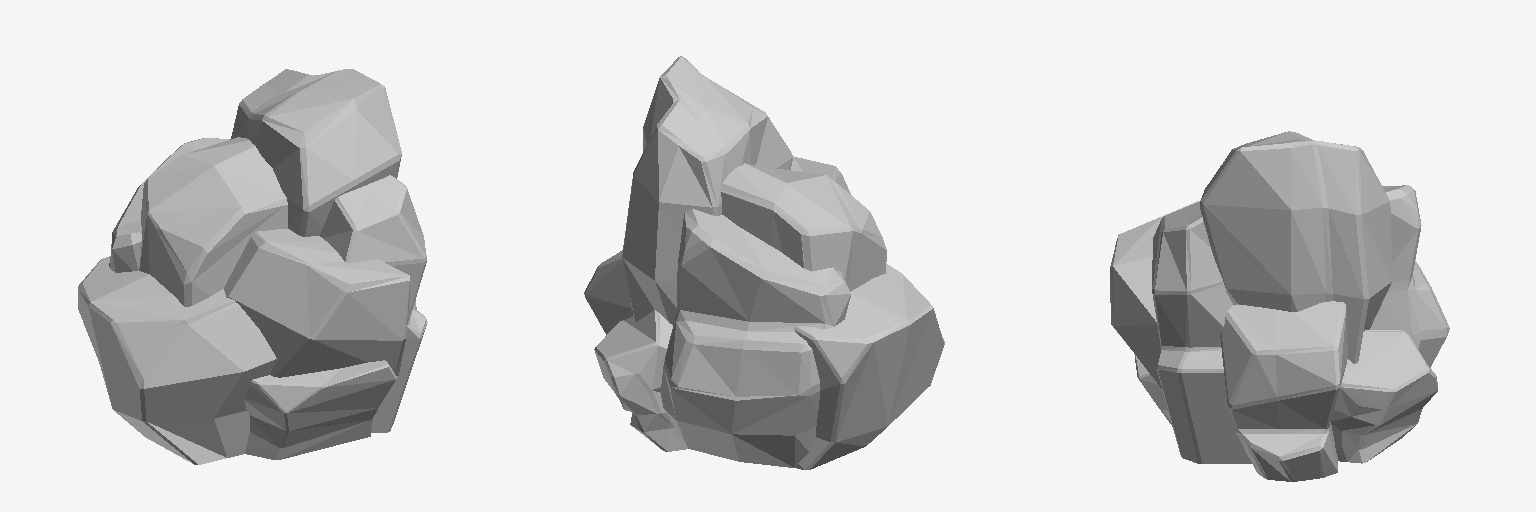
The model's file is Main_Cube2.mtl.obj.
The picture shows the model from 3 angles: view 1: azimuth 30°, elevation 25°; view 2: azimuth 150°, elevation 25°; view 3: azimuth 270°, elevation 25°; orthographic projection.
Parts seen in each view (by area): view 1: Cube_main.001; view 2: Cube_main.001; view 3: Cube_main.001.
Boxes of the visible parts, <box> form: Cube_main.001: <box>78,69,427,464</box>; Cube_main.001: <box>584,56,944,469</box>; Cube_main.001: <box>1110,131,1449,481</box>.
Size of the model in its own units: 1.85 by 1.83 by 1.75.